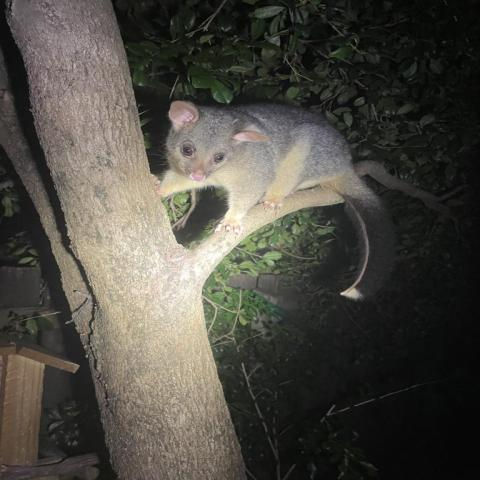small_animal: (153, 97, 398, 302)
